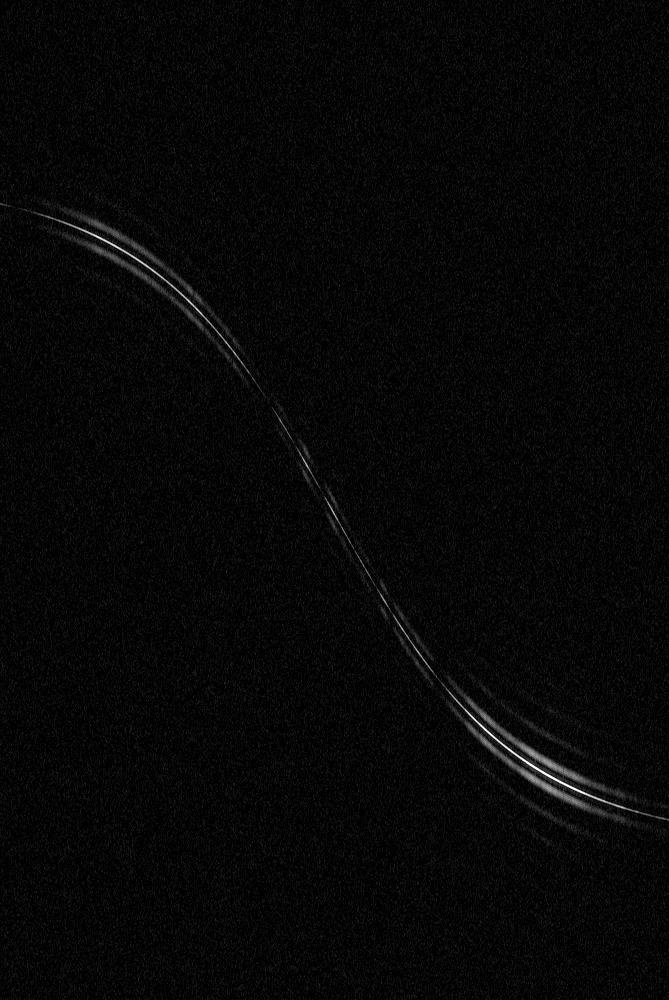signal: (0, 0, 668, 999)
